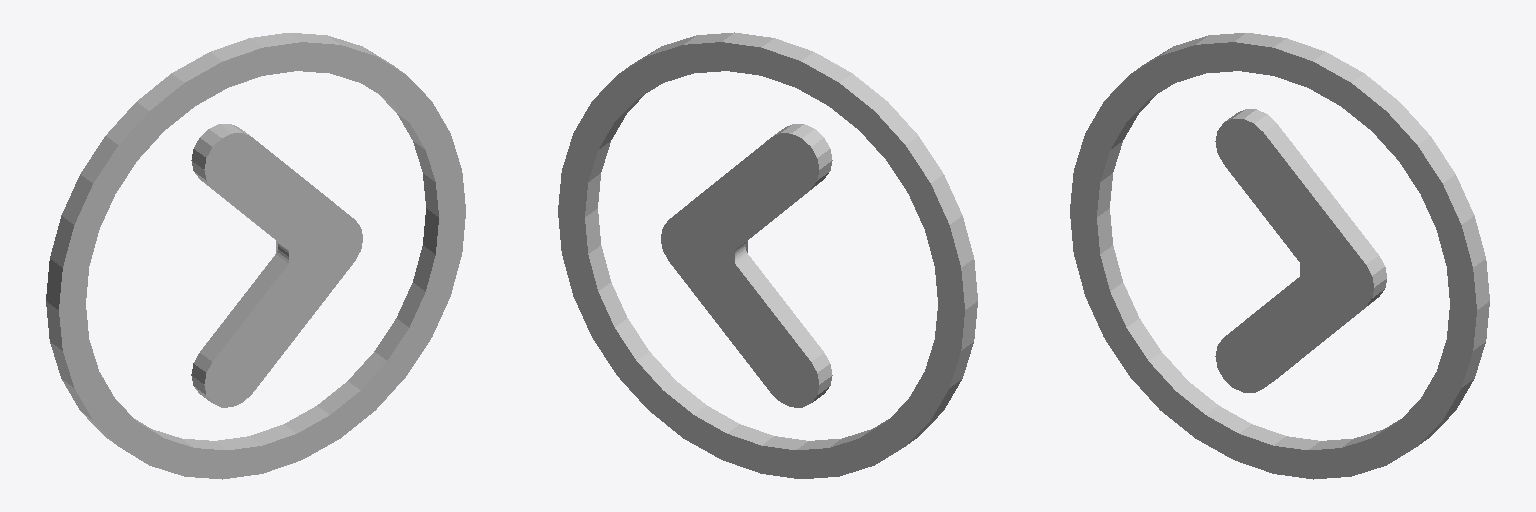
The model's file is Arrow_12.obj.
3 views of the same model, side by side, from view 1: azimuth 30°, elevation 25°; view 2: azimuth 150°, elevation 25°; view 3: azimuth 330°, elevation 25° (orthographic).
Visible parts, largest first — view 1: Arrow_12; view 2: Arrow_12; view 3: Arrow_12.
Boxes of the visible parts, <box> form: Arrow_12: <box>46,33,465,479</box>; Arrow_12: <box>558,32,977,478</box>; Arrow_12: <box>1070,33,1489,479</box>.
Bounding box in the file's own units: 3.79 × 3.79 × 0.2116.